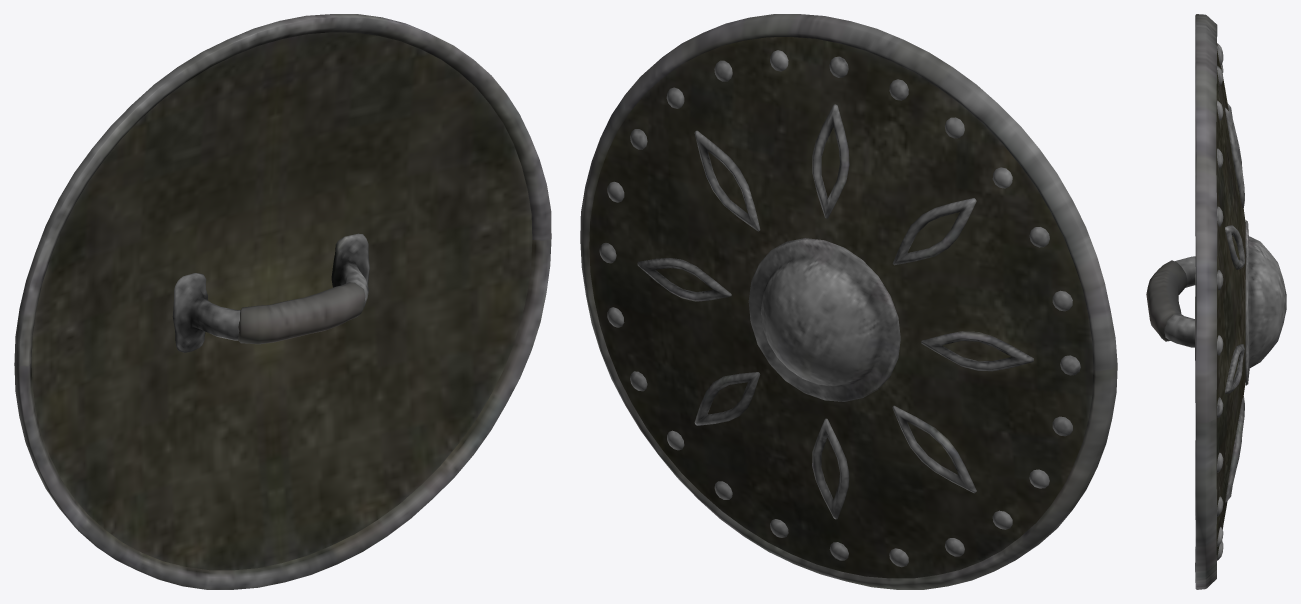
File: weapon-wp_a_2046.glb
3 renders of one model, left to right at view 1: azimuth 30°, elevation 25°; view 2: azimuth 150°, elevation 25°; view 3: azimuth 270°, elevation 25°, orthographic. The views are drawn at different scales.
Visible parts, largest first — view 1: wp_a_2046_mesh; view 2: wp_a_2046_mesh; view 3: wp_a_2046_mesh.
Part boxes in pixels (x1=…): wp_a_2046_mesh: x1=14, y1=14, x2=551, y2=589; wp_a_2046_mesh: x1=580, y1=14, x2=1117, y2=589; wp_a_2046_mesh: x1=1146, y1=14, x2=1286, y2=589.
Size of the model in its own units: 0.6428 by 0.6432 by 0.1566.
1 material, 1 textured.
